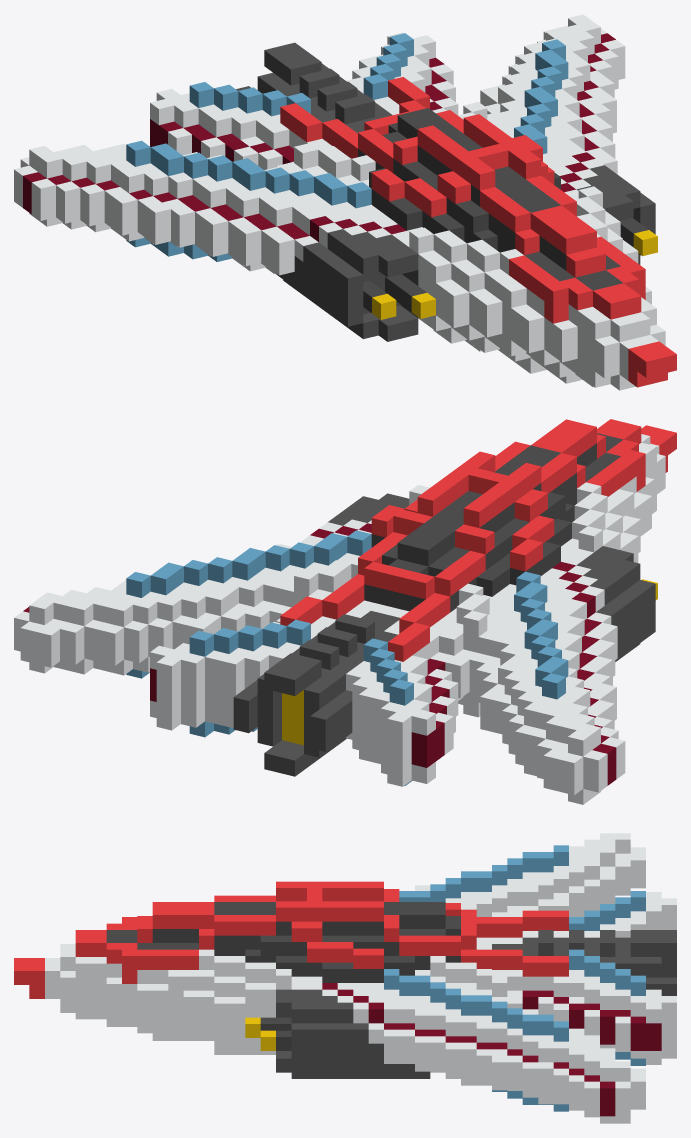
File: Navesita_mesh.obj
The picture shows the model from 3 angles, top to bottom: view 1: azimuth 30°, elevation 25°; view 2: azimuth 150°, elevation 25°; view 3: azimuth 270°, elevation 25°; orthographic projection. The views are drawn at different scales.
Bounding box in the file's own units: 3.8 × 1.1 × 4.3.
Materials: 1 (1 with a texture image).
